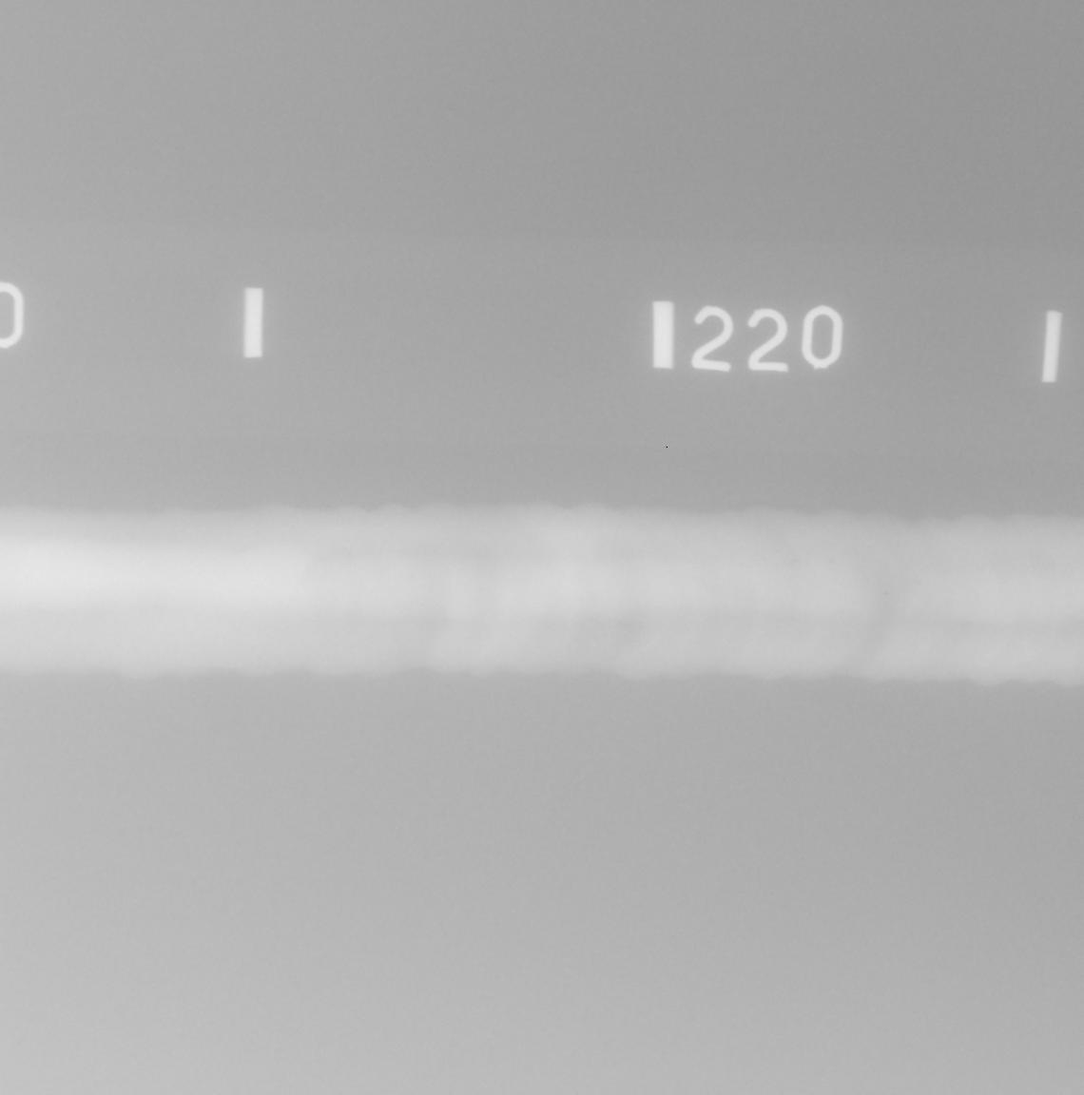Inclusion: (795, 559, 801, 564), (792, 562, 795, 568)
Pore/Porosity: (916, 580, 921, 586), (884, 592, 889, 596), (829, 559, 833, 564), (885, 610, 887, 613)
